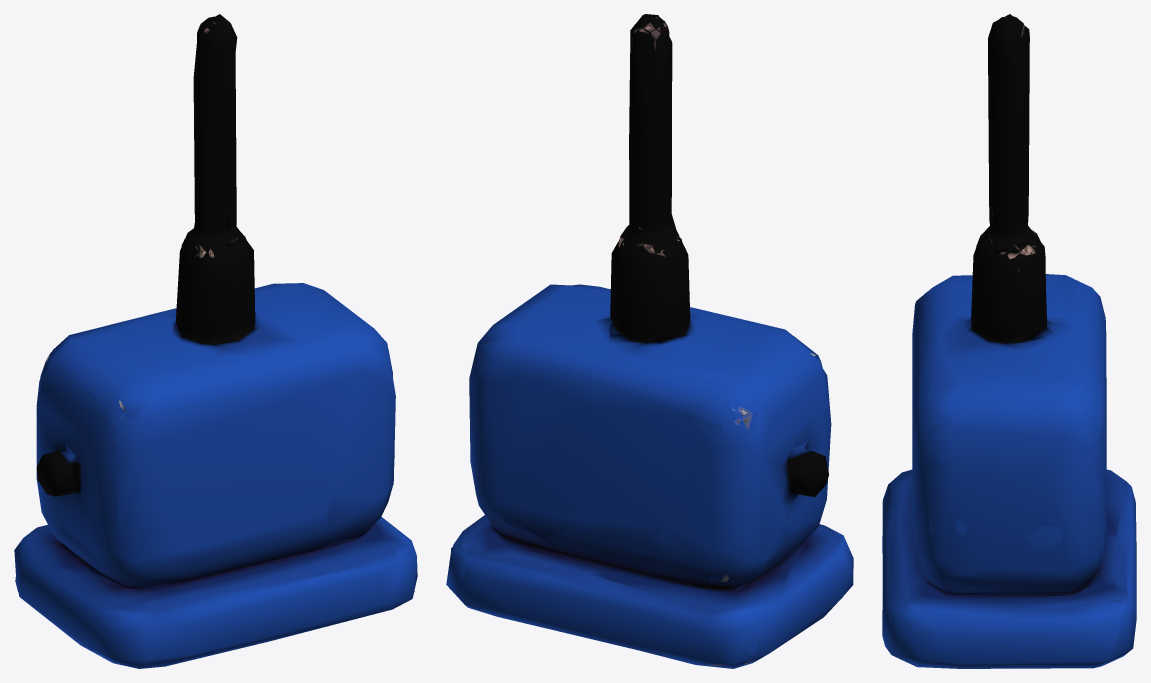
File: gen3d-fishing-rod-rack-lod0.glb
The picture shows the model from 3 angles, left to right: view 1: azimuth 30°, elevation 25°; view 2: azimuth 150°, elevation 25°; view 3: azimuth 270°, elevation 25°; orthographic projection.
Parts seen in each view (by area): view 1: part_0; view 2: part_0; view 3: part_0.
Part boxes in pixels (<box>): part_0: <box>14,14,417,668</box>; part_0: <box>446,14,853,668</box>; part_0: <box>882,14,1136,668</box>.
Size of the model in its own units: 0.5945 by 0.9976 by 0.3961.
